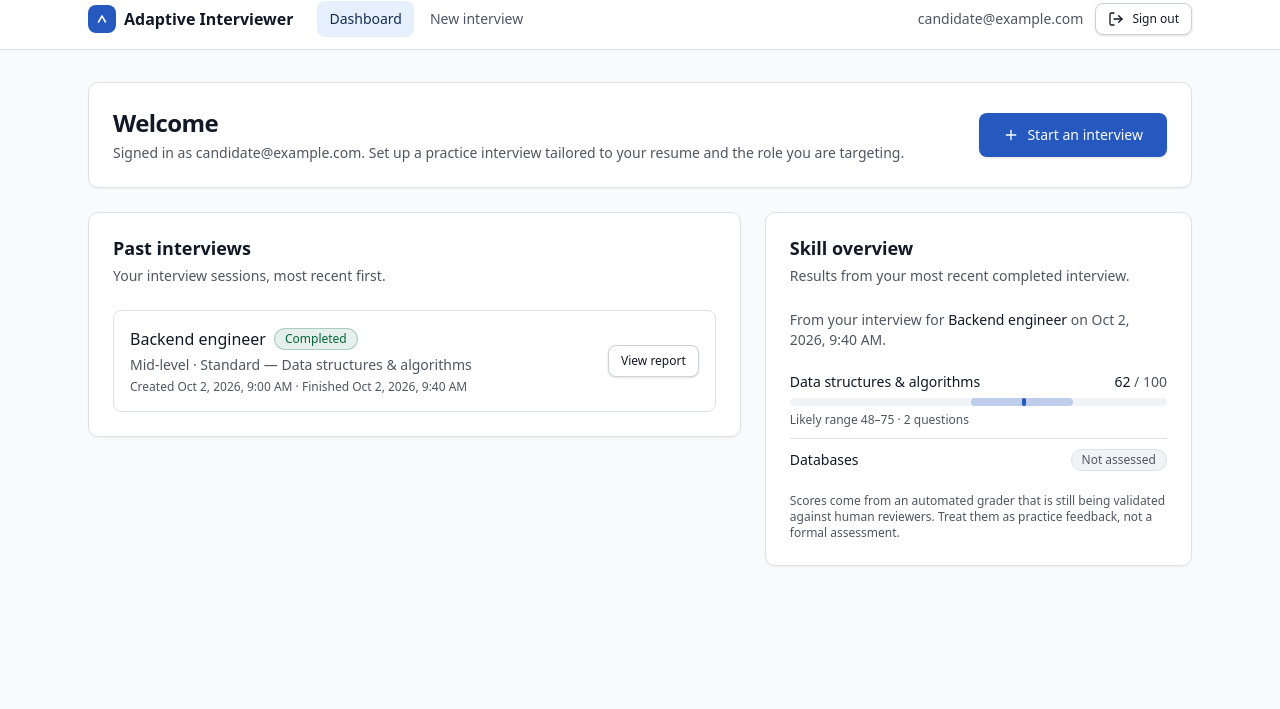
Test: report screen › is reachable from the dashboard
Step 1. Click the link "View report" → (653, 360), box [608,344,699,376]
(page scrolled)
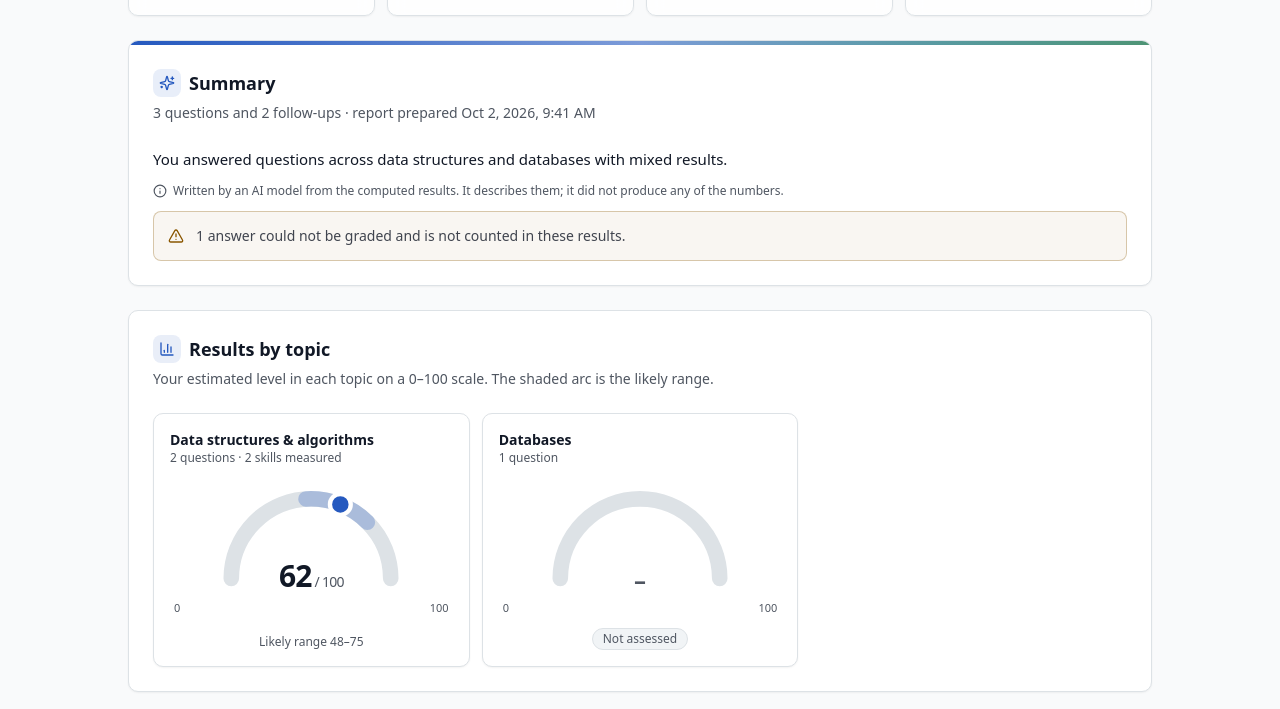
expect the heading "Results by topic" is shown: met, box [153,335,330,363]
